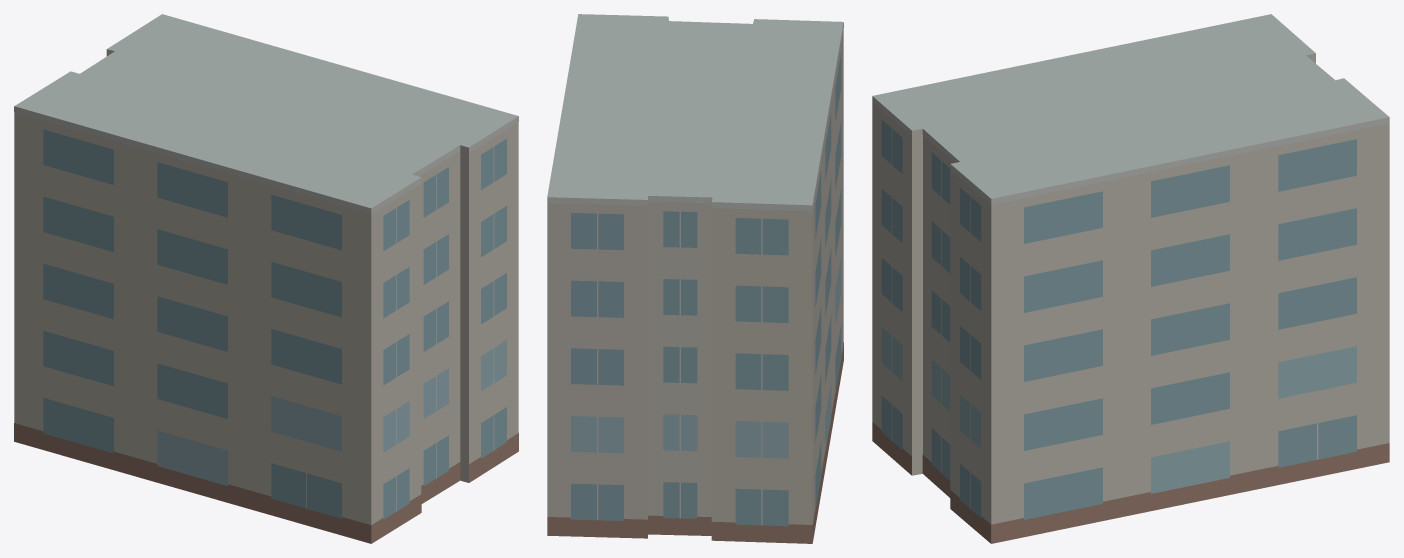
The model's file is survey-upis-32836555.glb.
3 renders of one model, left to right at view 1: azimuth 30°, elevation 25°; view 2: azimuth 150°, elevation 25°; view 3: azimuth 270°, elevation 25°, orthographic. The views are drawn at different scales.
Visible parts, largest first — view 1: survey-upis-32836555.tmp; view 2: survey-upis-32836555.tmp; view 3: survey-upis-32836555.tmp.
Part boxes in pixels (x1,y1,x2,y2): survey-upis-32836555.tmp: (14,14,518,543); survey-upis-32836555.tmp: (547,14,843,543); survey-upis-32836555.tmp: (872,14,1389,543).
Bounding box in the file's own units: 16.16 × 14.06 × 19.11.
